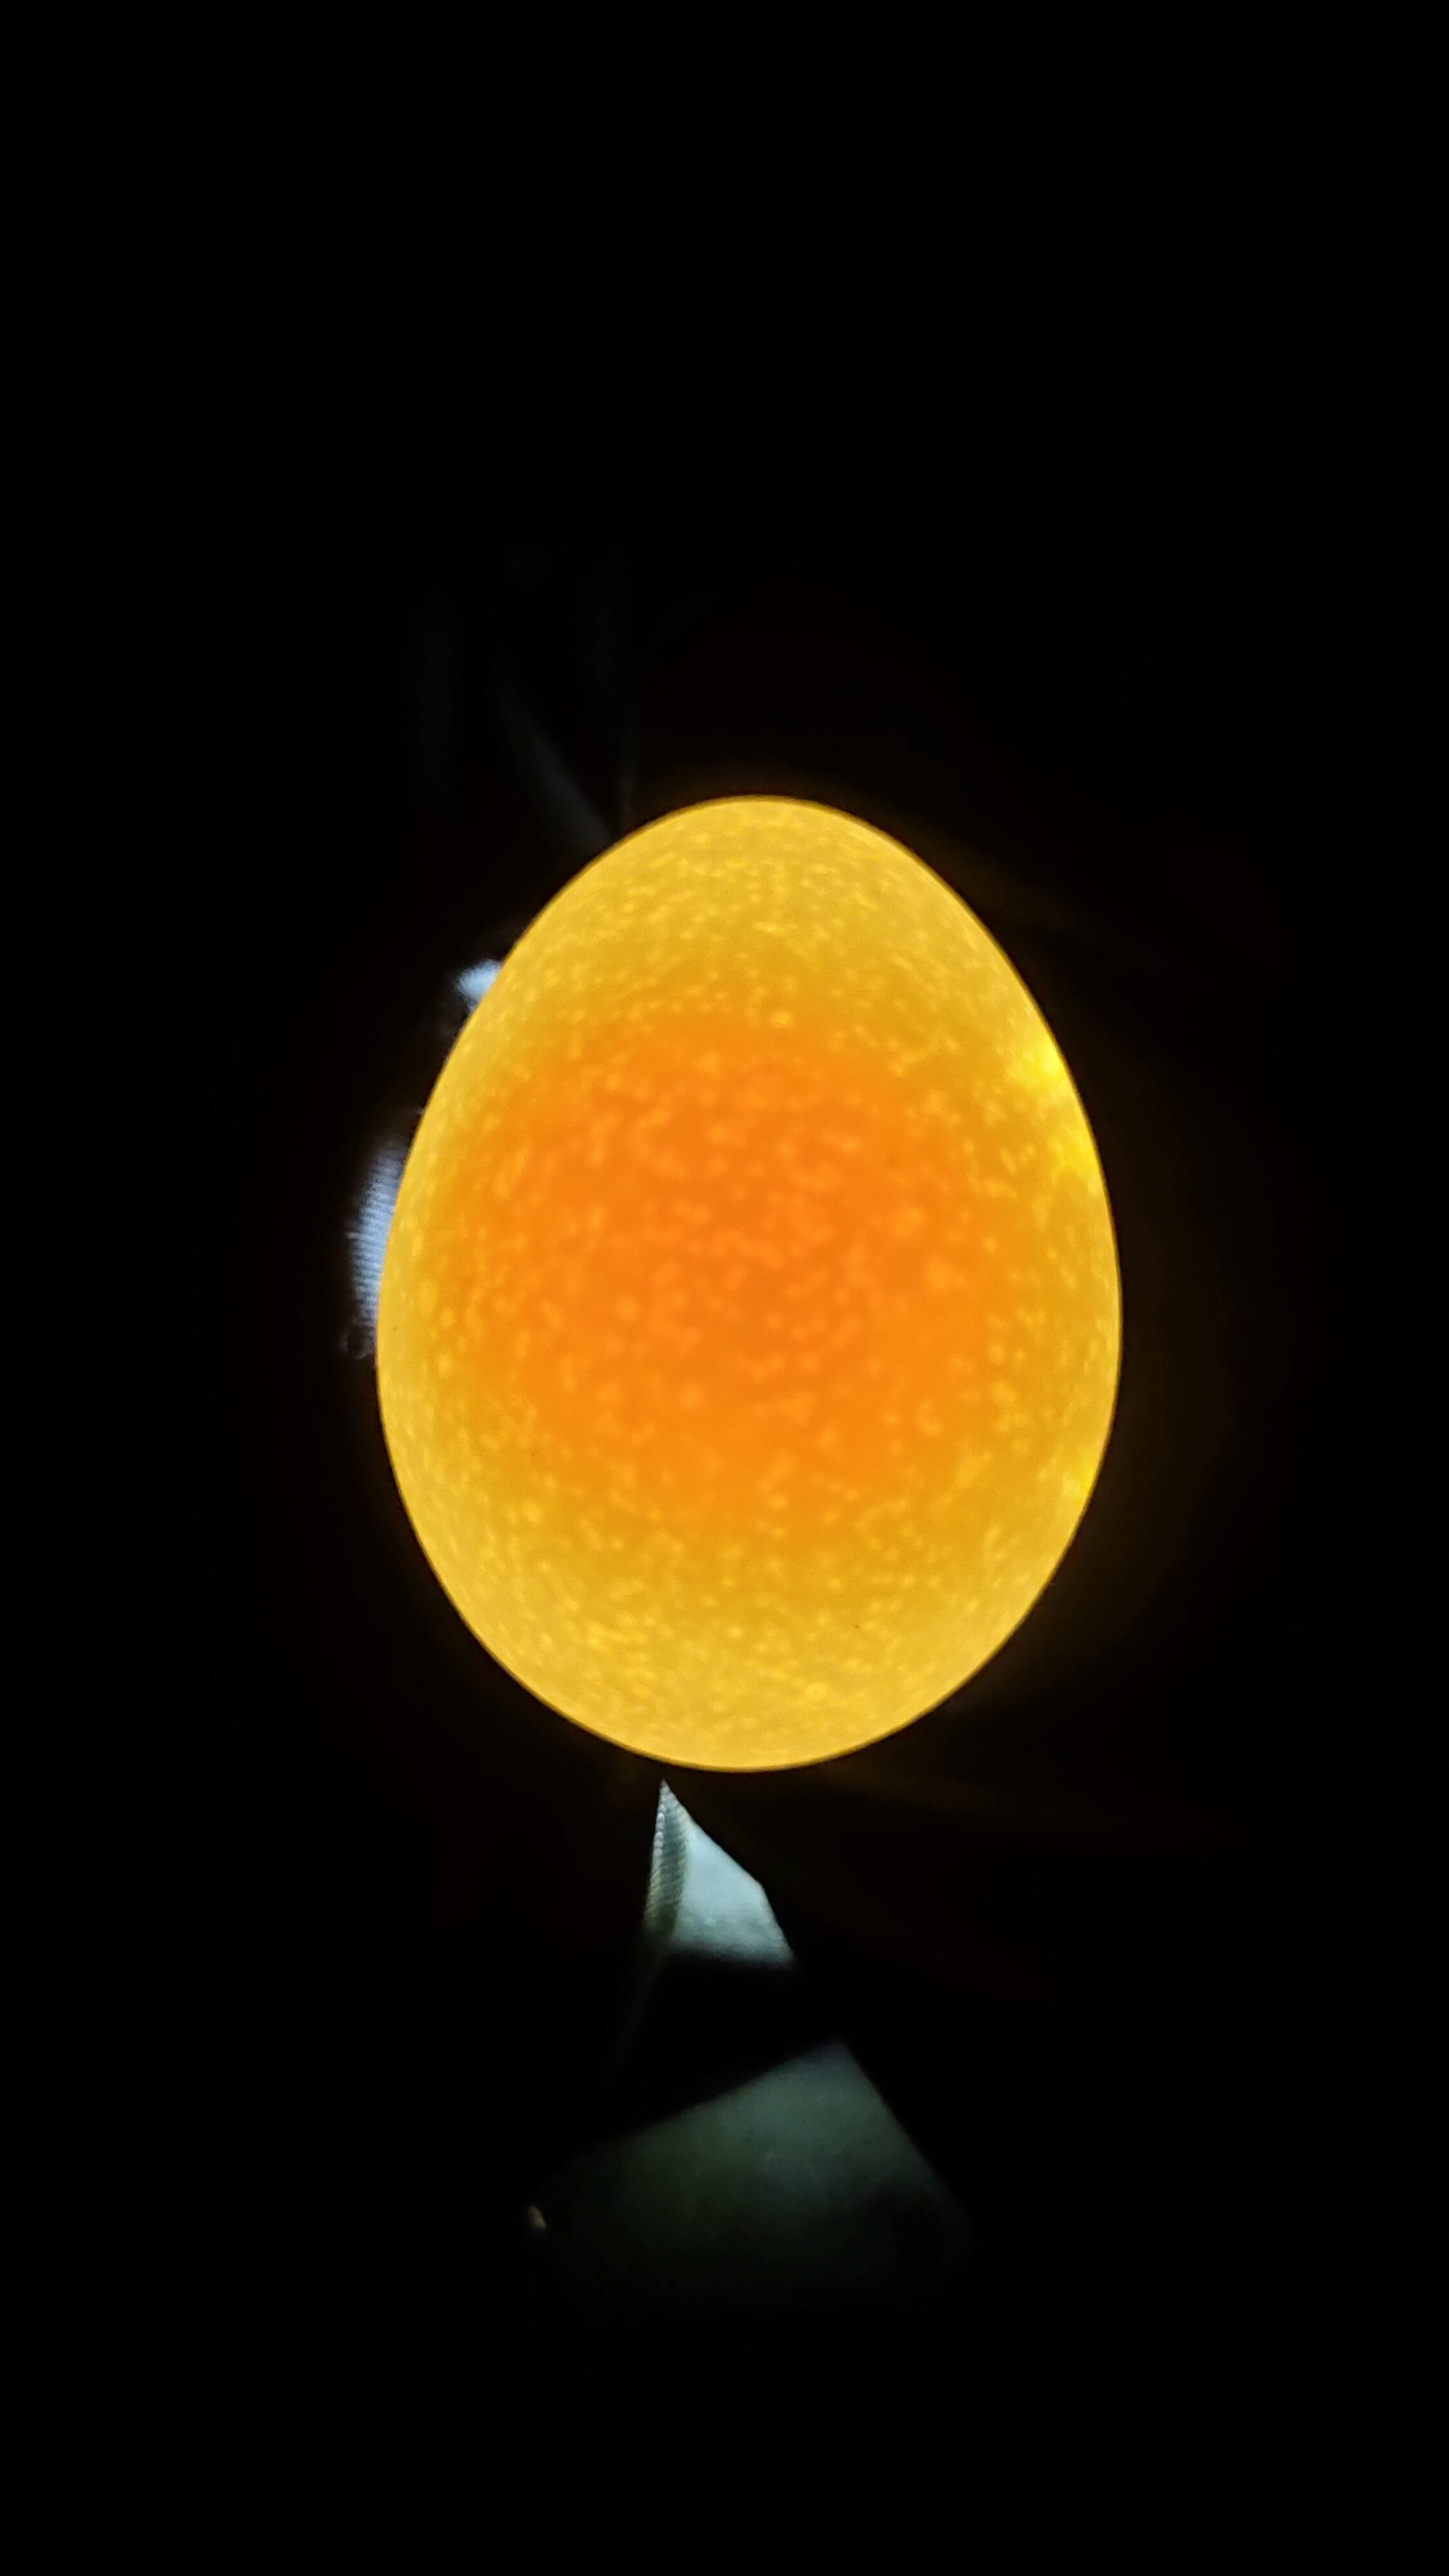A - Good: (341, 754, 1166, 1822)
